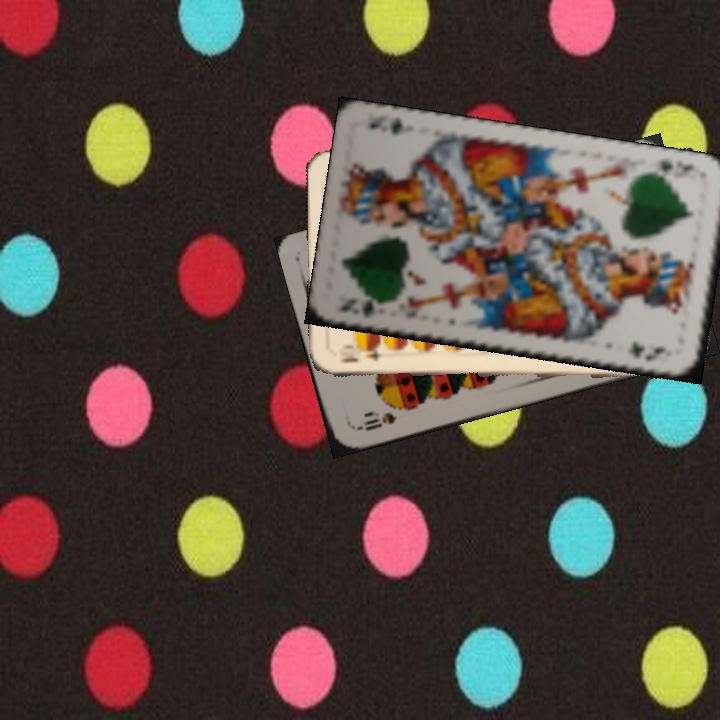E10: (335, 344, 392, 366)
GK: (646, 155, 704, 182), (336, 295, 393, 321)
S10: (350, 408, 399, 434)
